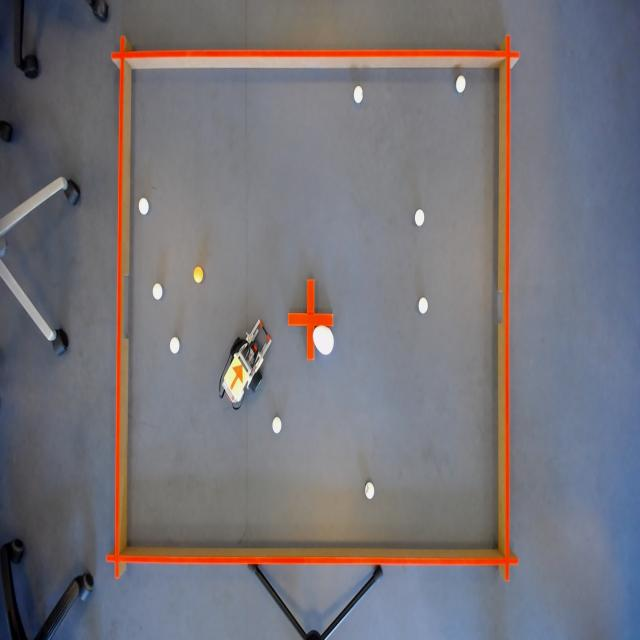cross: (287, 276, 335, 362)
egg: (312, 324, 336, 358)
orange_ball: (192, 266, 204, 285)
robot: (223, 356, 248, 400)
white_ball: (352, 82, 366, 107), (363, 478, 377, 502), (168, 333, 182, 357), (137, 194, 150, 219), (417, 294, 429, 320), (271, 412, 283, 438), (454, 72, 467, 96), (414, 207, 426, 230), (151, 281, 164, 302)
